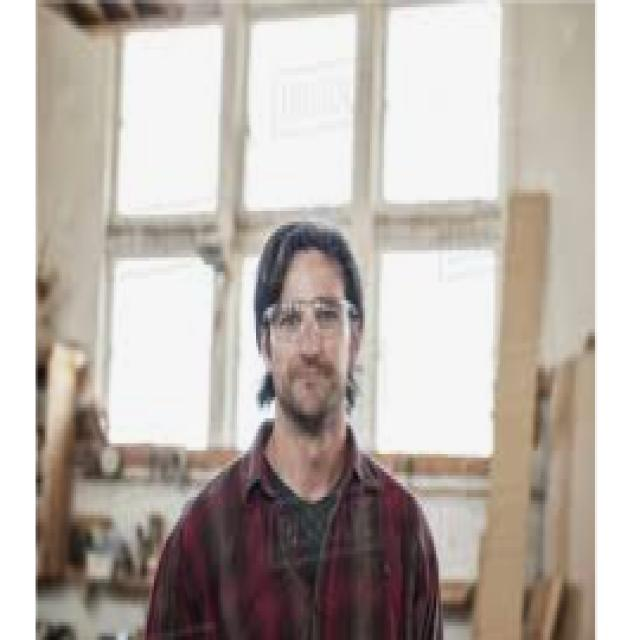glasses: (261, 292, 361, 348)
